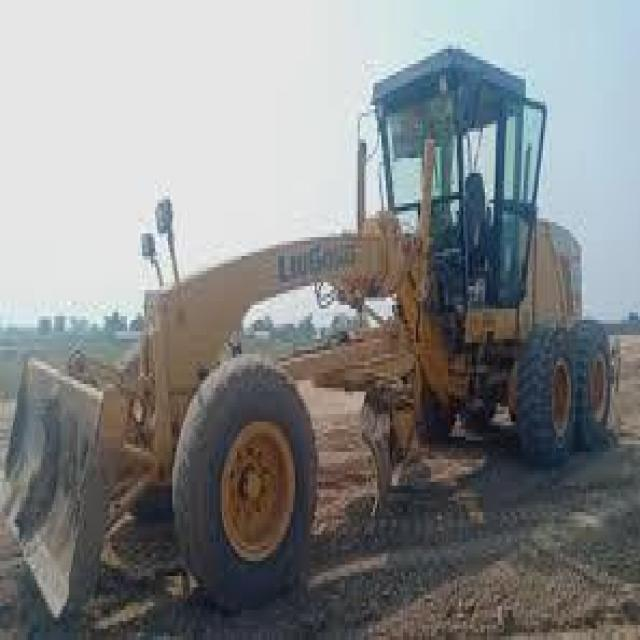Grader: (13, 34, 618, 636)
